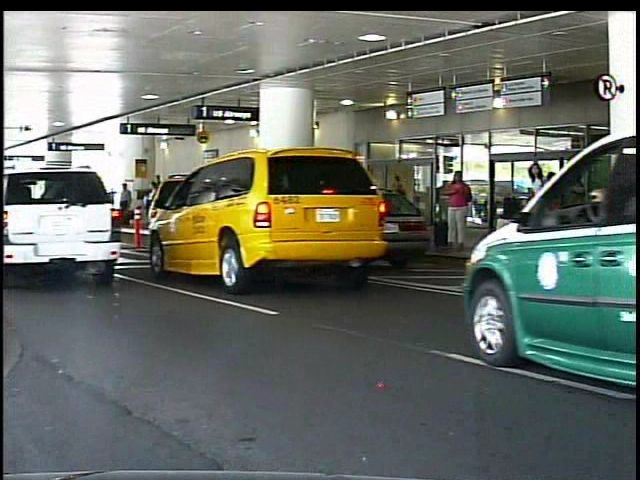person: (528, 160, 556, 265), (446, 167, 475, 253), (390, 172, 413, 238), (122, 179, 138, 231)
